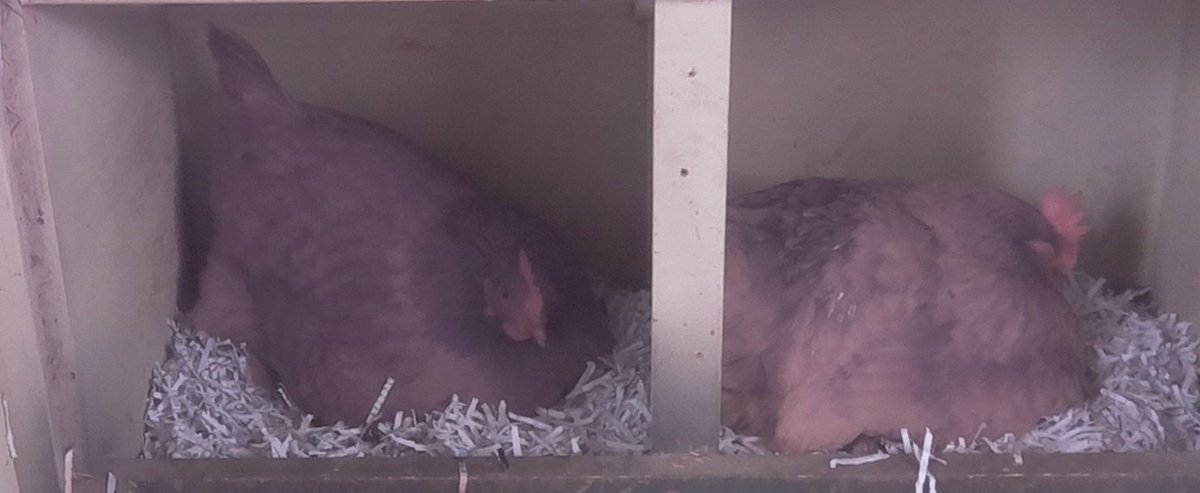hen: (190, 53, 624, 445), (730, 168, 1107, 448)
